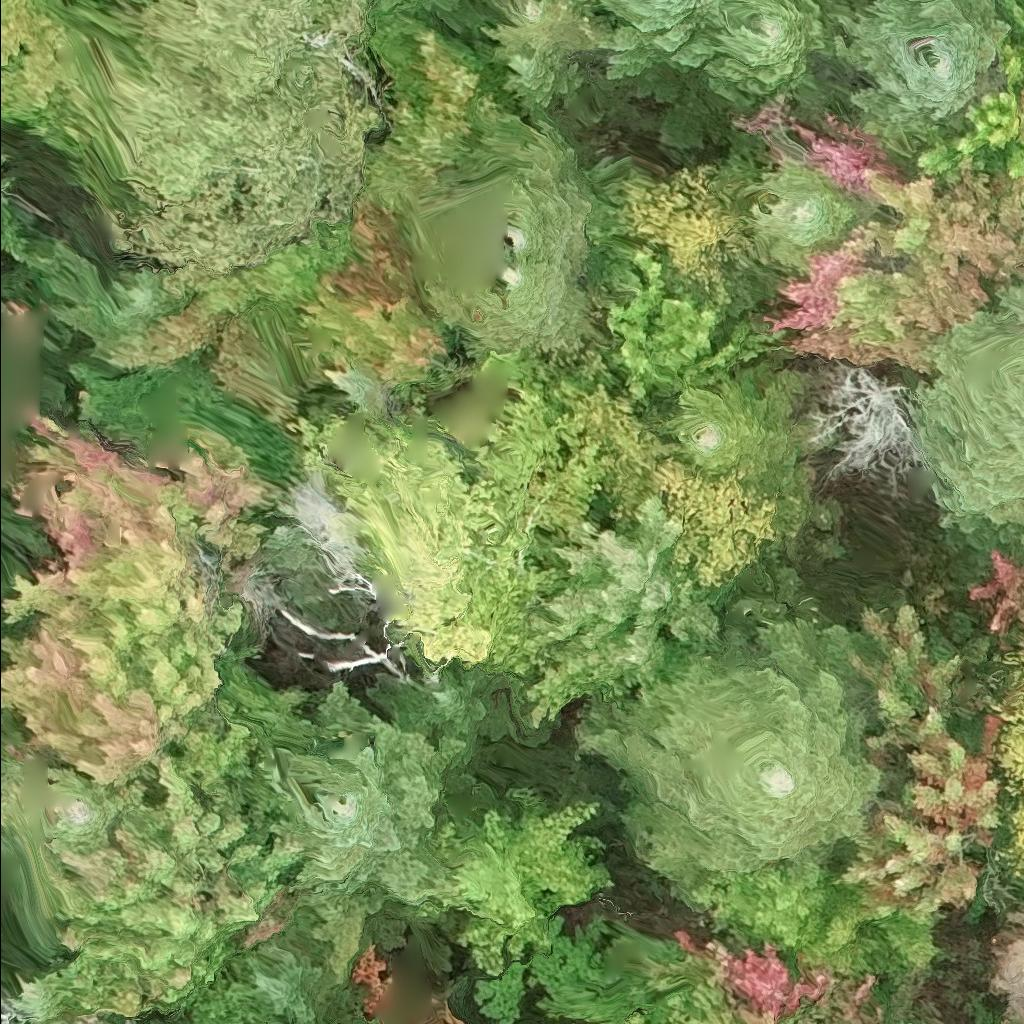crown: (644, 619, 881, 874), (827, 602, 1008, 921), (995, 647, 1023, 877)
